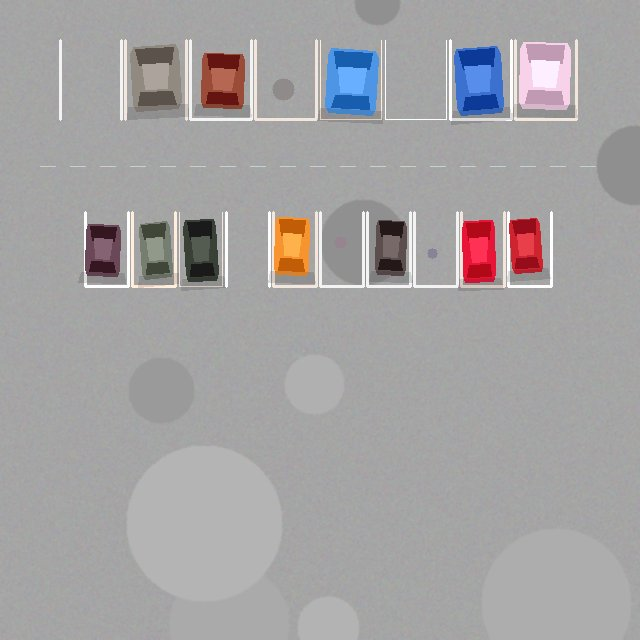space-empty: (60, 40, 121, 119), (255, 40, 316, 119), (385, 40, 446, 119), (226, 212, 269, 286), (320, 212, 363, 286), (414, 212, 457, 286)
space-occupied: (125, 40, 186, 119), (190, 40, 251, 119), (320, 40, 381, 119), (450, 40, 511, 119), (515, 40, 576, 119), (85, 212, 128, 286), (132, 212, 175, 286), (179, 212, 222, 286), (273, 212, 316, 286), (367, 212, 410, 286), (461, 212, 504, 286), (508, 212, 551, 286)
